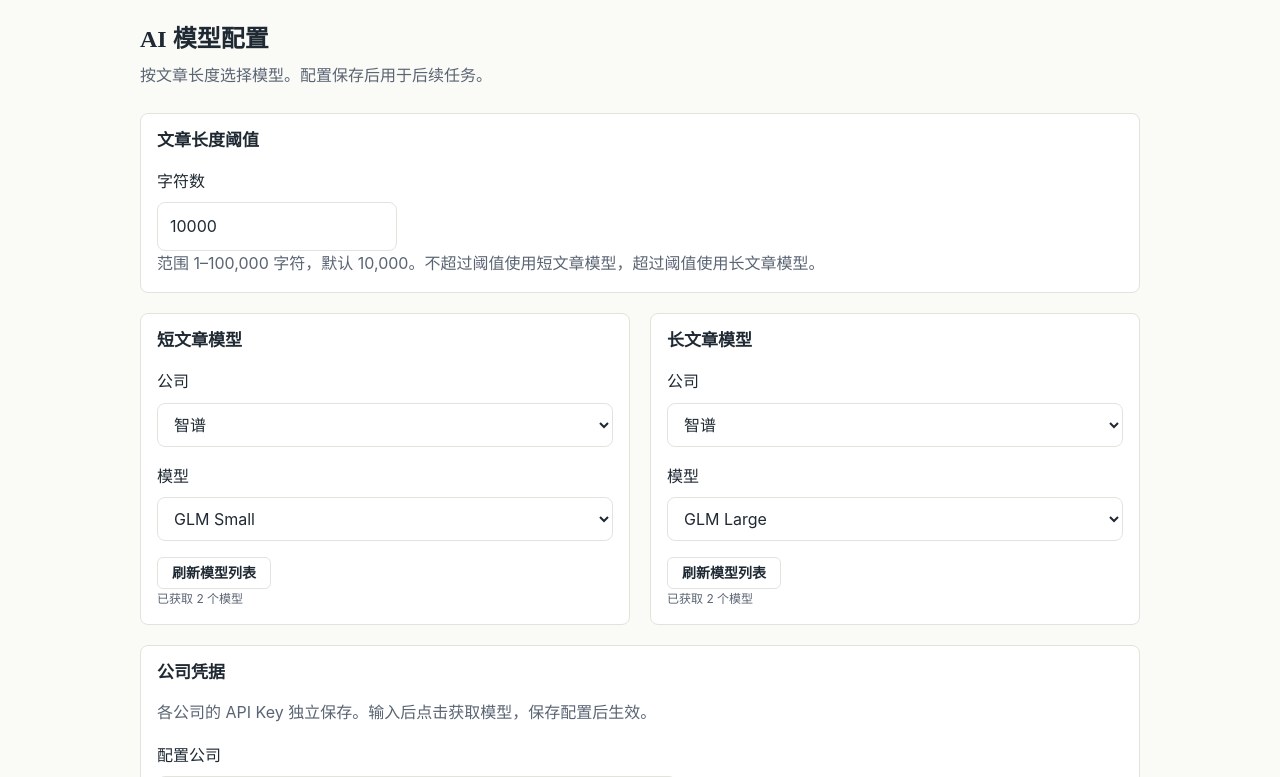
enforces the server threshold maximum and focuses credentials for the selected company
Replace the text in the number field labelled "字符数" with "100001". click: (277, 226)
box: [157,202,397,251]
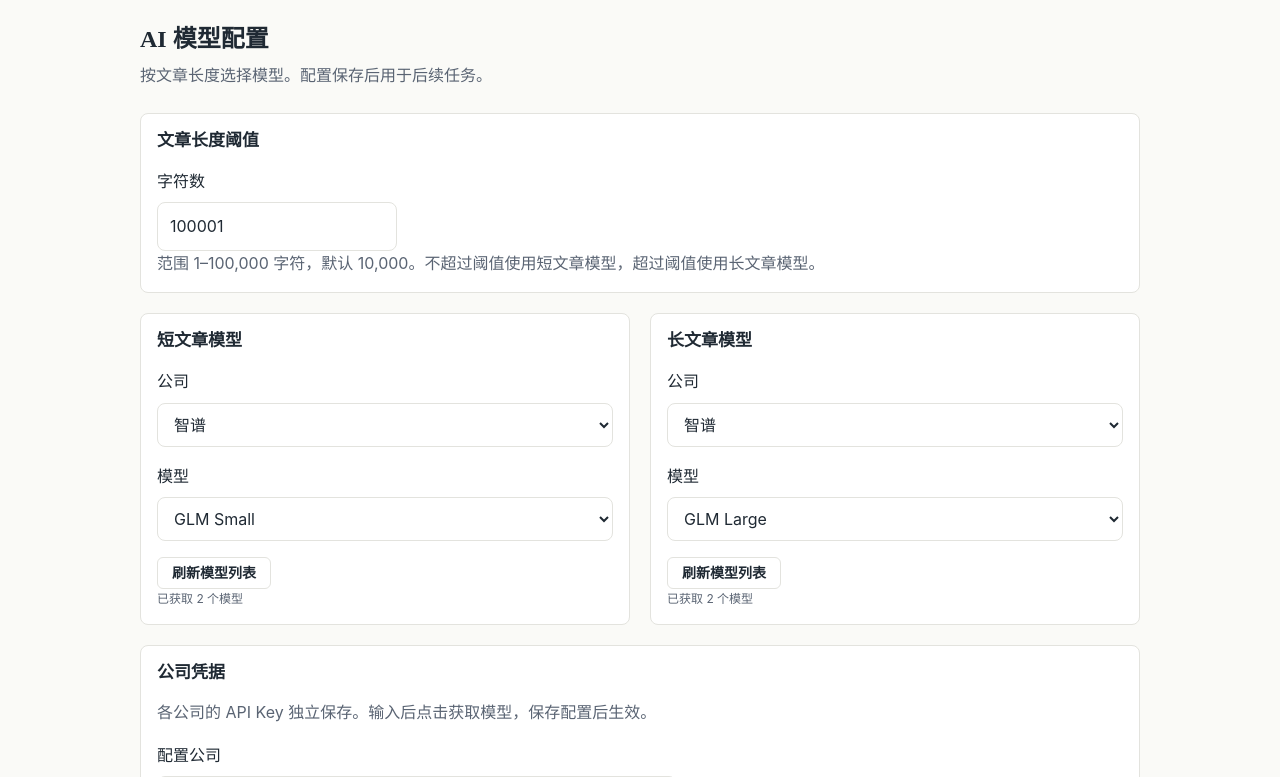
Replace the text in the number field labelled "字符数" with "100000". click: (277, 226)
box: [157,202,397,251]
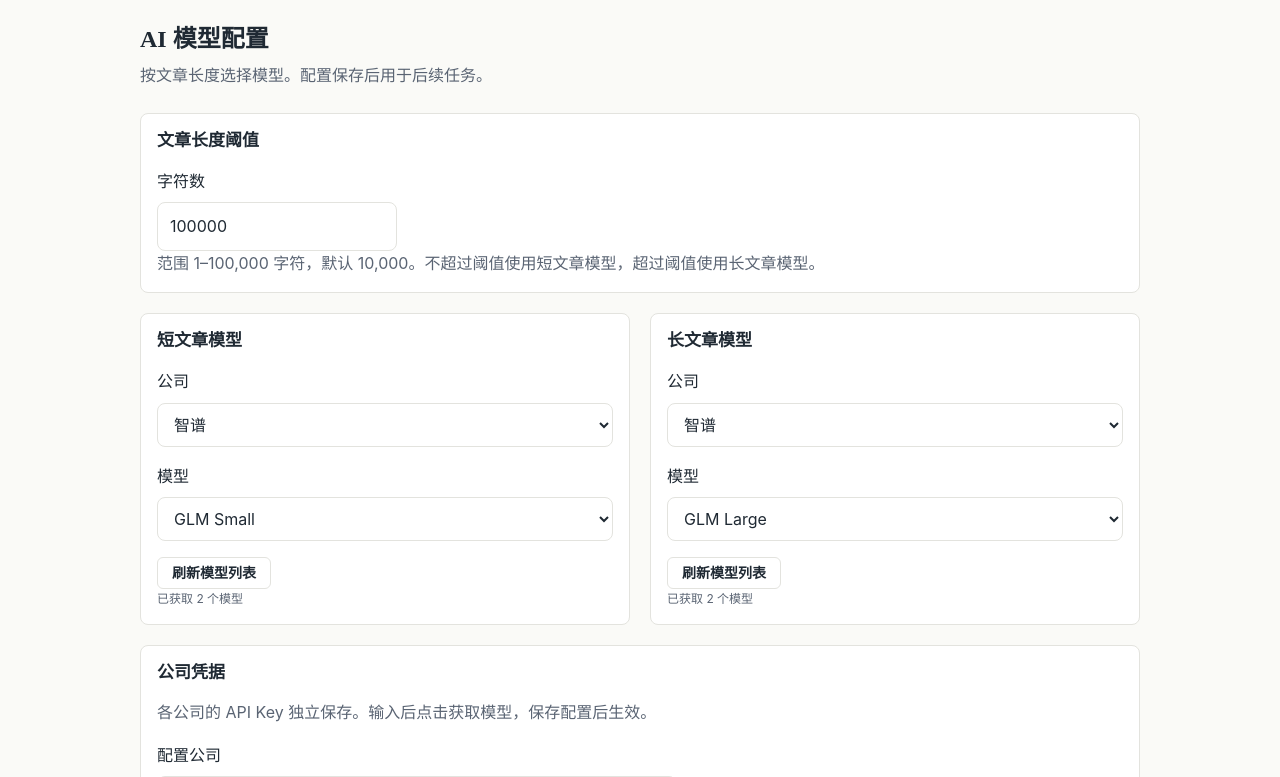
Select "OpenAI" in the 2nd dropdown labelled "公司". click: (895, 425)
box: [667,403,1123,447]
(page scrolled)
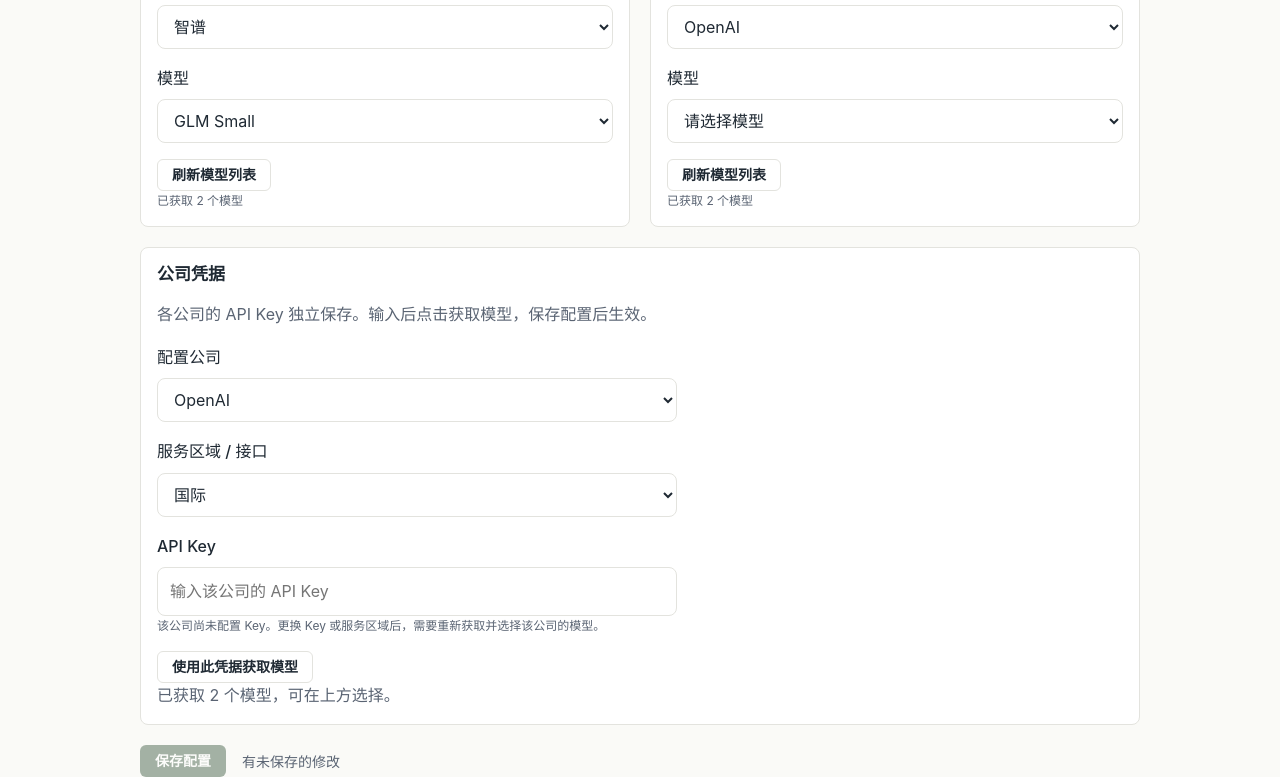
Now the dropdown labelled "配置公司" shows "OpenAI", box [157,378,677,422]
